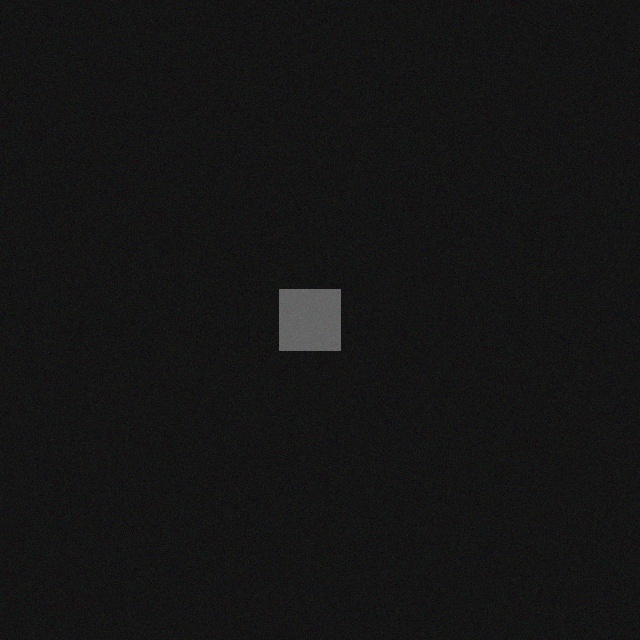square: (287, 280, 348, 341)
